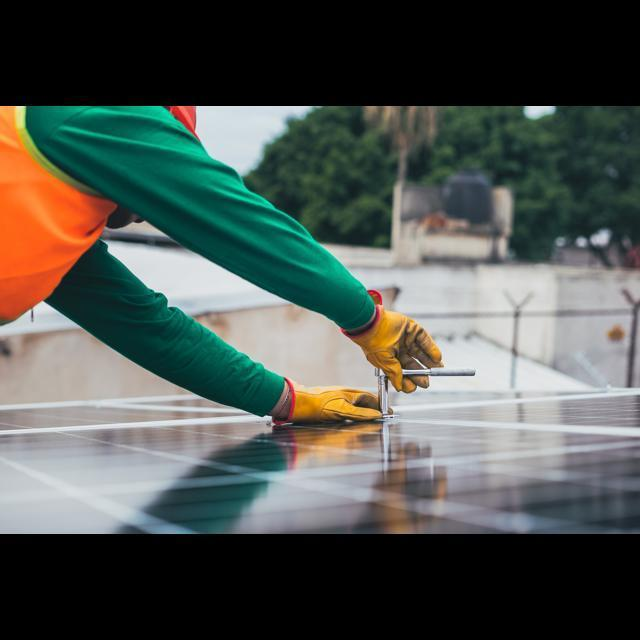safety_vest: (0, 105, 135, 334)
